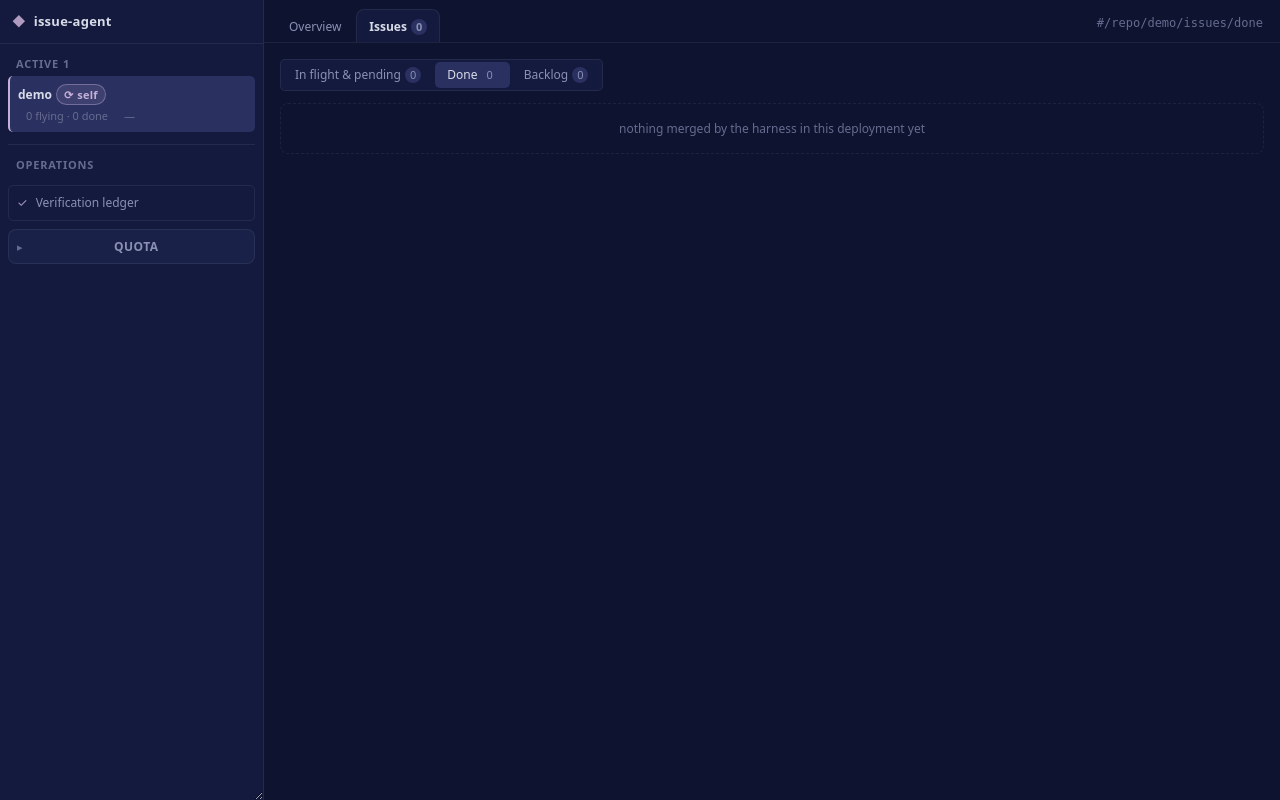
App navigation › remembers each repository's issue subtab and keeps verification out of the tab strip
What coordinates should you click on to do the following:
click the tab "Overview"
I would click on:
 (315, 27)
Its box is [277,10,353,43].
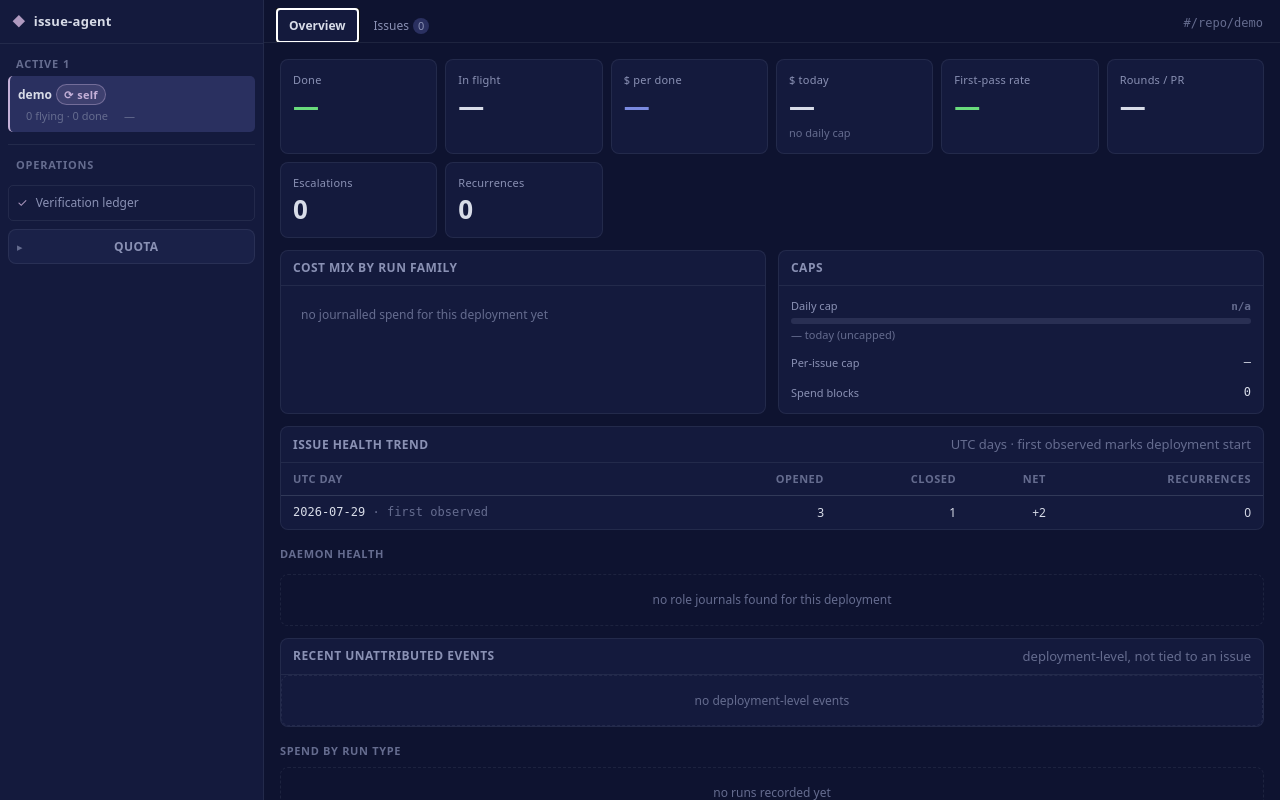
Expected: the row "2026-07-29 · first observed 3 1 +2 0" is shown, [281,496,1263,529]
What coordinates should you click on to do the following:
click the tab "Issues 0"
I would click on:
 (401, 26)
Its box is [362,9,441,42].
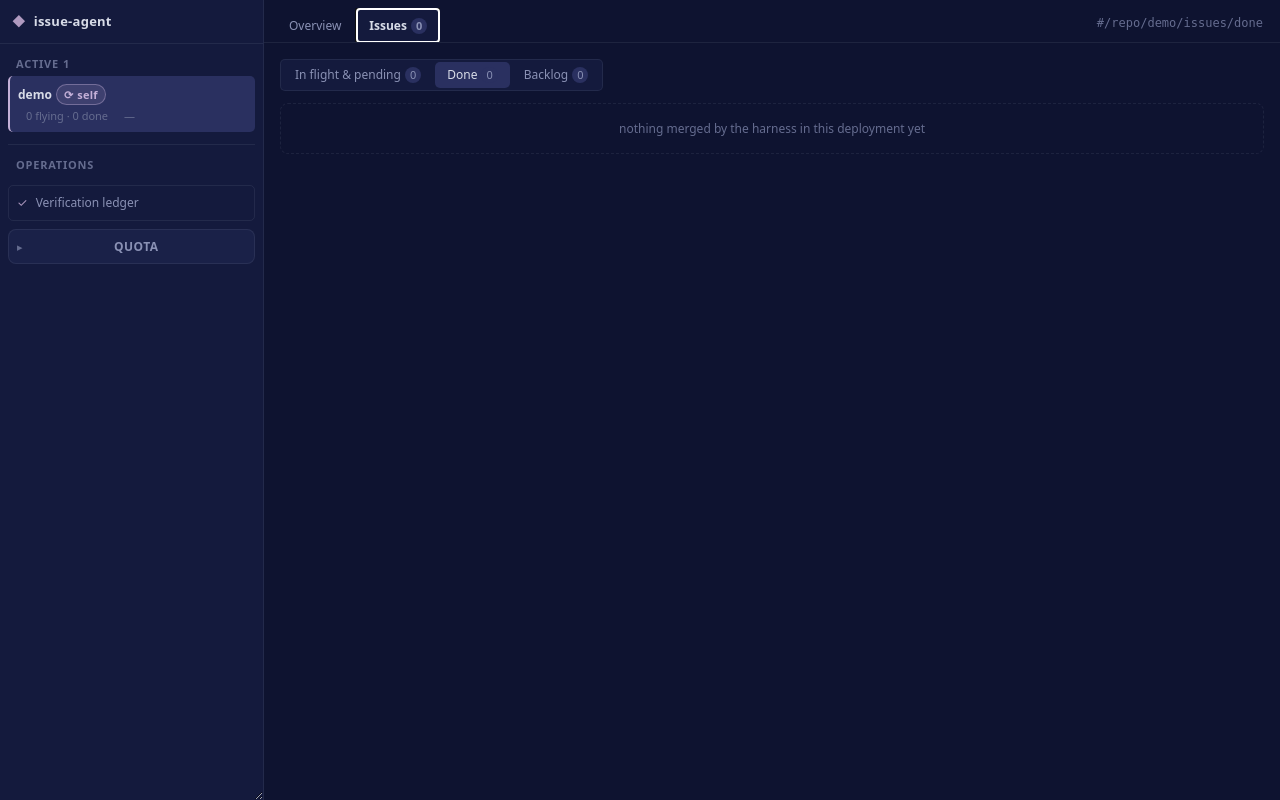
What coordinates should you click on to do the following:
click the button "✓ Verification ledger"
I would click on:
 (132, 203)
Its box is [8,185,255,221].
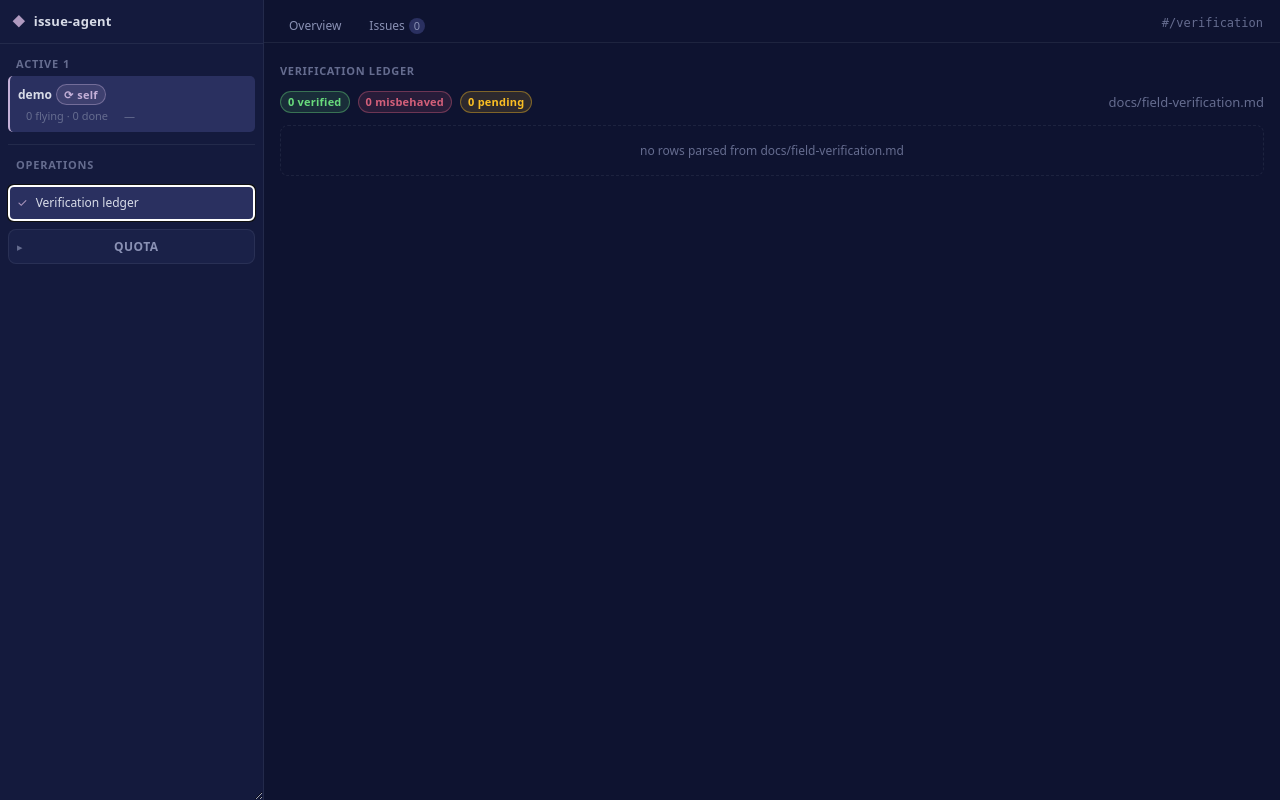
Expected: the text "Verification ledger" is shown, [280,63,415,79]
